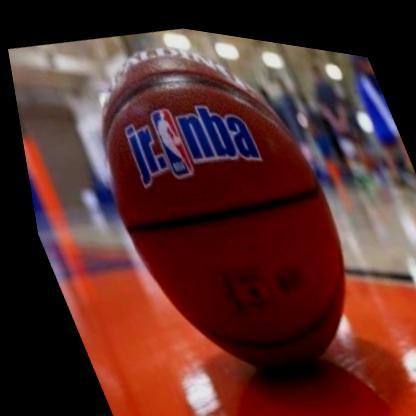basketball: (38, 5, 403, 416)
